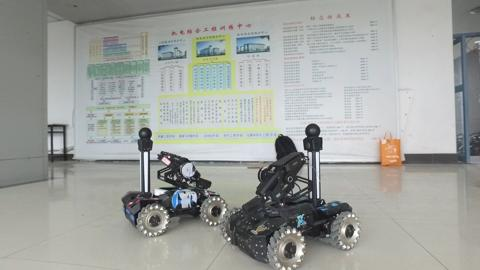chariot: (221, 116, 372, 267), (115, 127, 228, 240)
